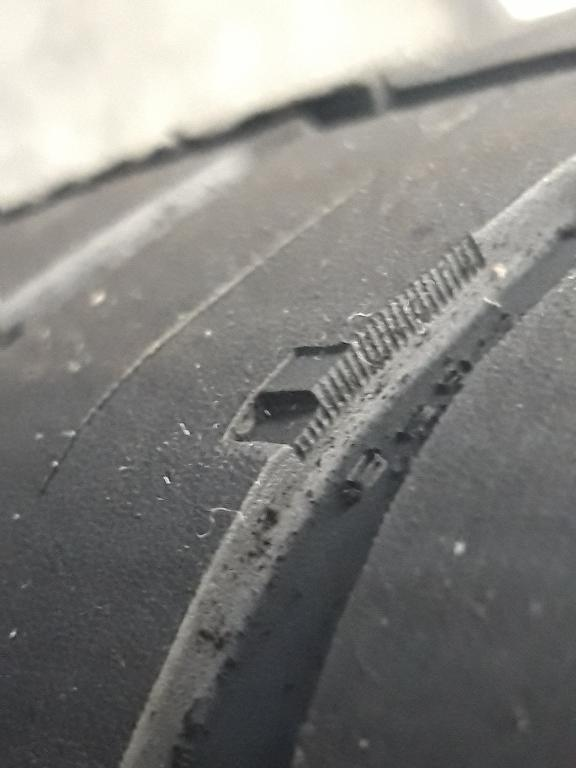temoin:25: (201, 320, 389, 482)
